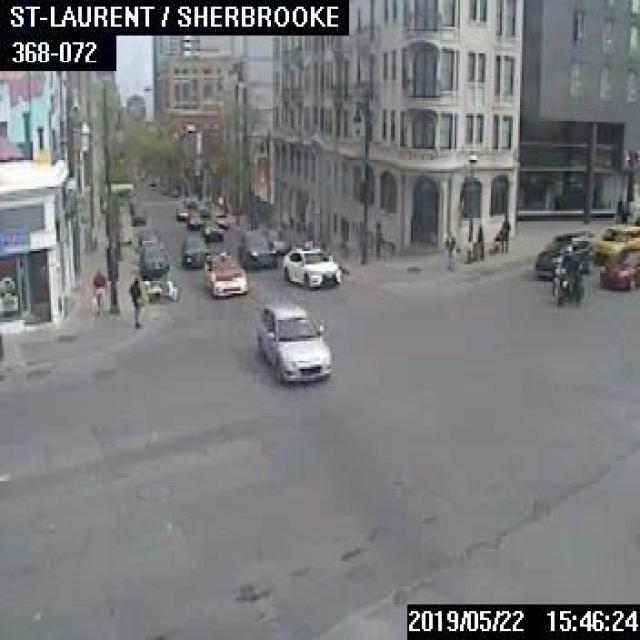pedestrian: (89, 264, 106, 318), (127, 276, 142, 326), (493, 211, 509, 251), (470, 222, 483, 259)
vehicle: (255, 298, 330, 384), (534, 229, 598, 277), (281, 242, 341, 287), (203, 246, 246, 295), (593, 221, 638, 262), (598, 246, 638, 288), (549, 251, 582, 301), (238, 229, 275, 267), (143, 269, 178, 300), (139, 243, 167, 276), (180, 234, 206, 266), (137, 228, 161, 250), (202, 217, 222, 240), (185, 206, 202, 228), (130, 204, 143, 224), (213, 211, 229, 227), (175, 205, 188, 217)
